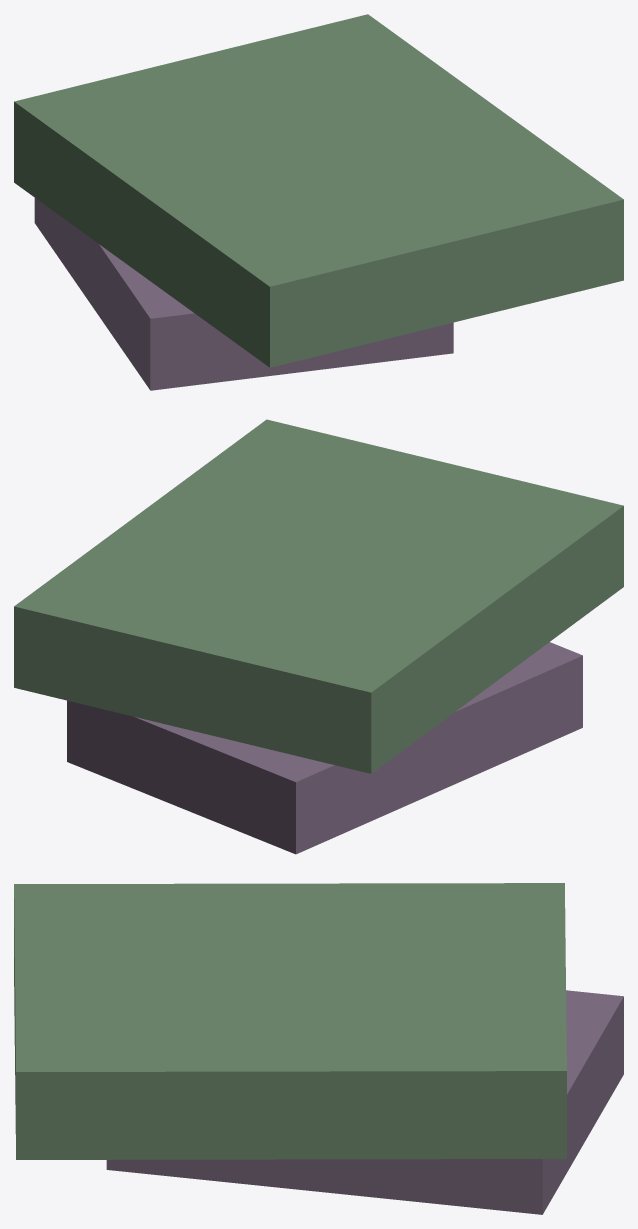
File: mov_7b0301d478.gltf
The picture shows the model from 3 angles, top to bottom: view 1: azimuth 30°, elevation 25°; view 2: azimuth 150°, elevation 25°; view 3: azimuth 270°, elevation 25°; orthographic projection. The views are drawn at different scales.
Parts seen in each view (by area): view 1: mov_7b0301d478; view 2: mov_7b0301d478; view 3: mov_7b0301d478.
Part boxes in pixels (left/top/right/bottom): mov_7b0301d478: left=14, top=14, right=623, bottom=390; mov_7b0301d478: left=14, top=419, right=623, bottom=854; mov_7b0301d478: left=14, top=883, right=623, bottom=1214.
Size of the model in its own units: 0.2375 by 0.088 by 0.2932.
